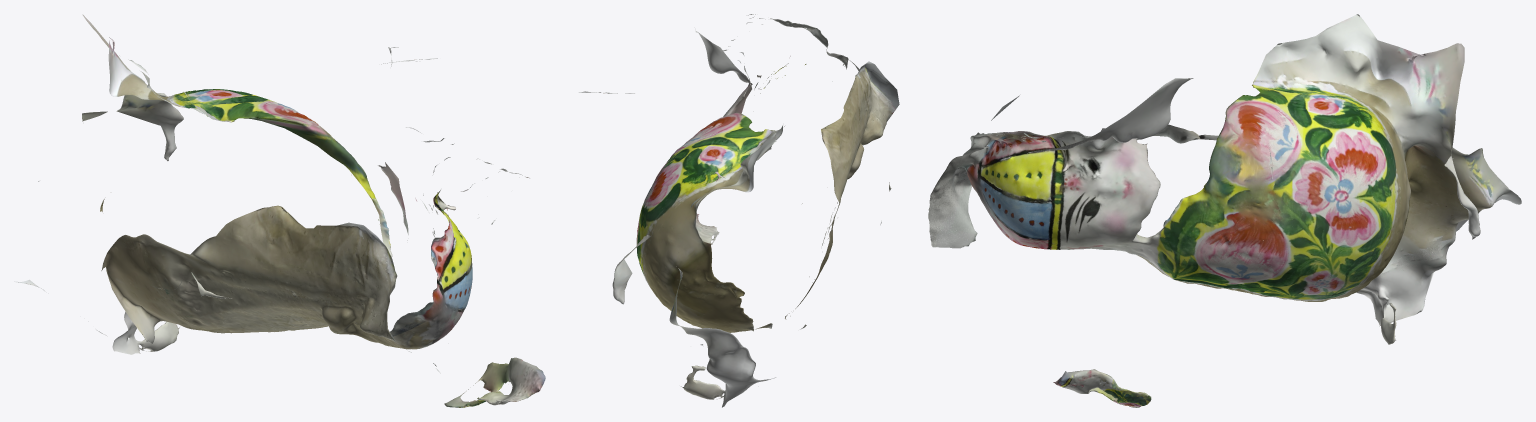
The picture shows the model from 3 angles, left to right: view 1: azimuth 30°, elevation 25°; view 2: azimuth 150°, elevation 25°; view 3: azimuth 270°, elevation 25°; orthographic projection. The views are drawn at different scales.
Size of the model in its own units: 1.57 by 1.55 by 2.59.
1 material, 1 textured.
